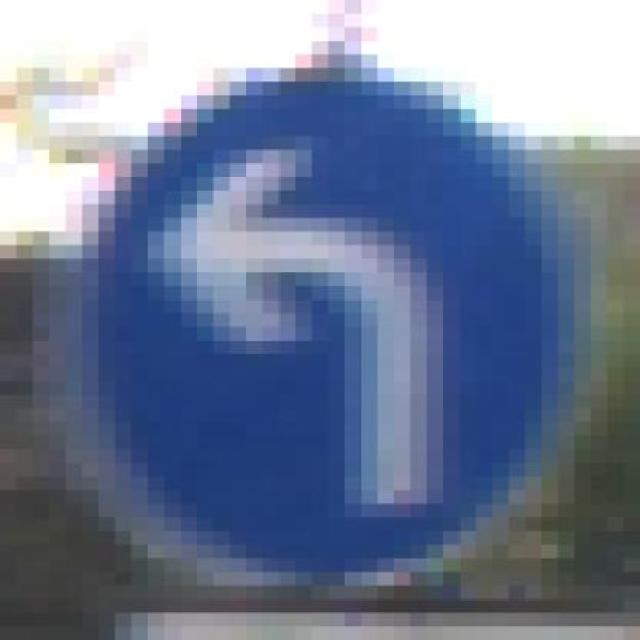Turn left ahead: (82, 55, 590, 599)
